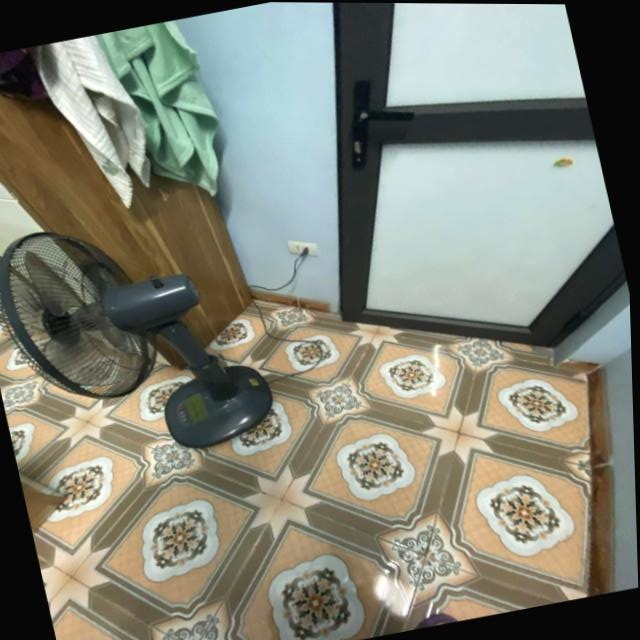outlet: (286, 237, 320, 262)
